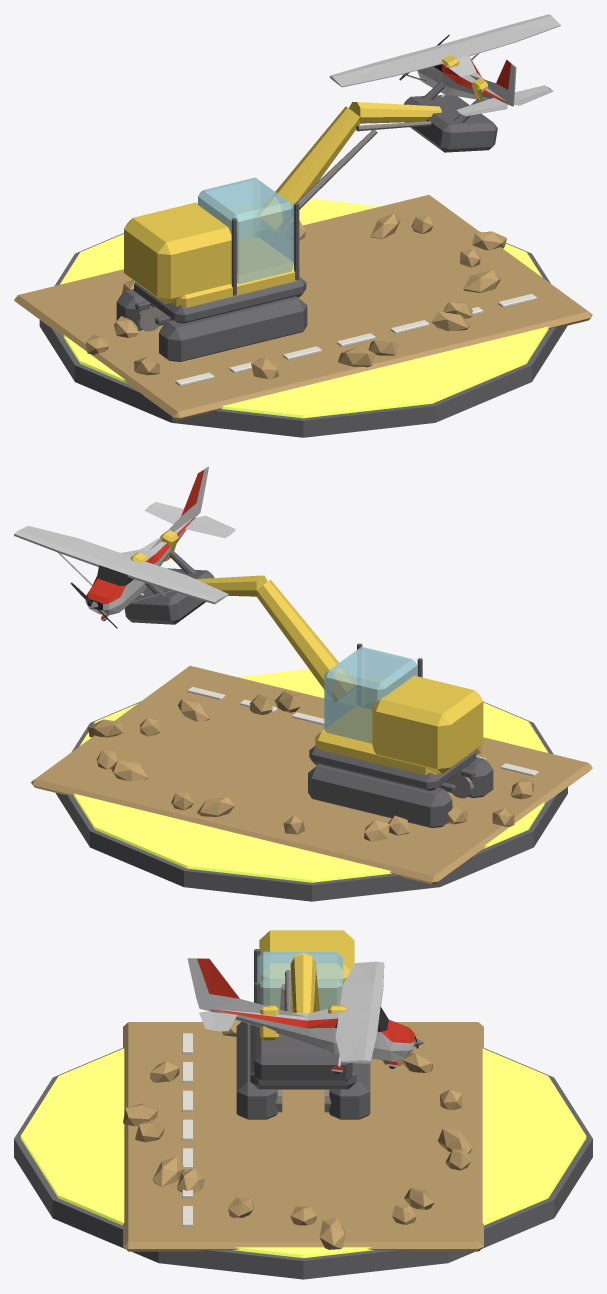
The model's file is demo-v7.glb.
3 views of the same model, one above another, from view 1: azimuth 30°, elevation 25°; view 2: azimuth 150°, elevation 25°; view 3: azimuth 270°, elevation 25° (orthographic). The views are drawn at different scales.
Parts seen in each view (by area): view 1: Runway, Stage_Trim, Stage_Platform, ExcavatorCounterweight, Fuselage_Cube.003, ExcavatorCab, Track_-1, ExcavatorBoom, ExcavatorTurntable, ExcavatorBucket, ExcavatorUndercarriage, ExcavatorStick (+5 smaller); view 2: Runway, Stage_Trim, Stage_Platform, Fuselage_Cube.003, ExcavatorCounterweight, ExcavatorCab, Track_1, ExcavatorBoom, ExcavatorTurntable, ExcavatorUndercarriage, ExcavatorBucket, ExcavatorStick (+3 smaller); view 3: Runway, Stage_Trim, Stage_Platform, Fuselage_Cube.003, ExcavatorCounterweight, ExcavatorBucket, ExcavatorCab, Track_-1, Track_1, ExcavatorStick, ExcavatorUndercarriage, DemoRock_11 (+8 smaller).
Part boxes in pixels (x1,y1,x2,y2): Runway: [14, 195, 592, 420]; Stage_Trim: [60, 198, 548, 418]; Stage_Platform: [39, 232, 567, 437]; ExcavatorCounterweight: [124, 202, 237, 304]; Fuselage_Cube.003: [329, 14, 560, 116]; ExcavatorCab: [198, 177, 293, 284]; Track_-1: [159, 296, 307, 361]; ExcavatorBoom: [257, 106, 359, 232]; ExcavatorTurntable: [171, 237, 299, 307]; ExcavatorBucket: [404, 95, 497, 152]; ExcavatorUndercarriage: [134, 277, 306, 323]; ExcavatorStick: [349, 102, 441, 123]; Runway: [31, 665, 592, 884]; Stage_Trim: [74, 669, 548, 882]; Stage_Platform: [55, 701, 567, 901]; Fuselage_Cube.003: [14, 466, 235, 620]; ExcavatorCounterweight: [372, 675, 483, 774]; ExcavatorCab: [324, 646, 417, 743]; Track_1: [308, 764, 452, 827]; ExcavatorBoom: [257, 580, 356, 702]; ExcavatorTurntable: [315, 706, 437, 775]; ExcavatorUndercarriage: [309, 745, 476, 790]; ExcavatorBucket: [124, 568, 214, 624]; ExcavatorStick: [196, 575, 267, 596]; Runway: [123, 1022, 483, 1251]; Stage_Trim: [20, 1048, 586, 1257]; Stage_Platform: [14, 1048, 592, 1279]; Fuselage_Cube.003: [187, 958, 414, 1074]; ExcavatorCounterweight: [259, 930, 354, 1010]; ExcavatorBucket: [254, 1026, 352, 1081]; ExcavatorCab: [257, 951, 342, 1010]; Track_-1: [236, 1021, 277, 1119]; Track_1: [329, 1063, 370, 1119]; ExcavatorStick: [290, 954, 316, 1013]; ExcavatorUndercarriage: [250, 1024, 356, 1089]; DemoRock_11: [319, 1218, 345, 1249].
Size of the model in its own units: 9.39 by 4.61 by 8.5.
